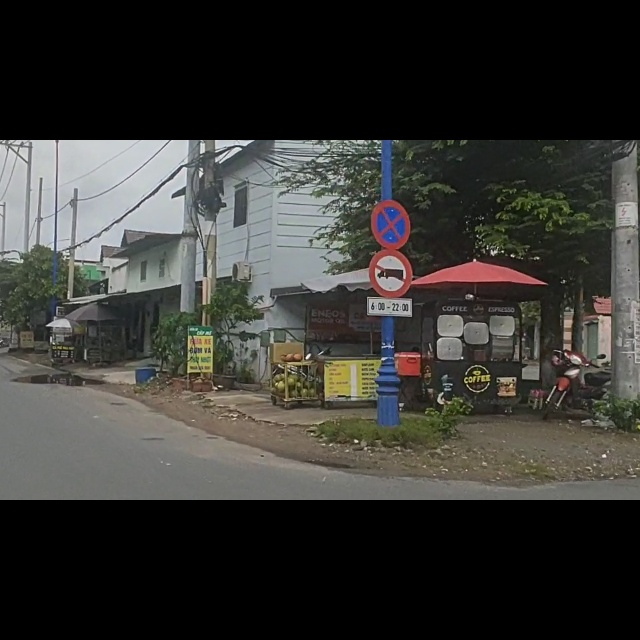bien_cam: (369, 196, 413, 279), (371, 108, 411, 193)
